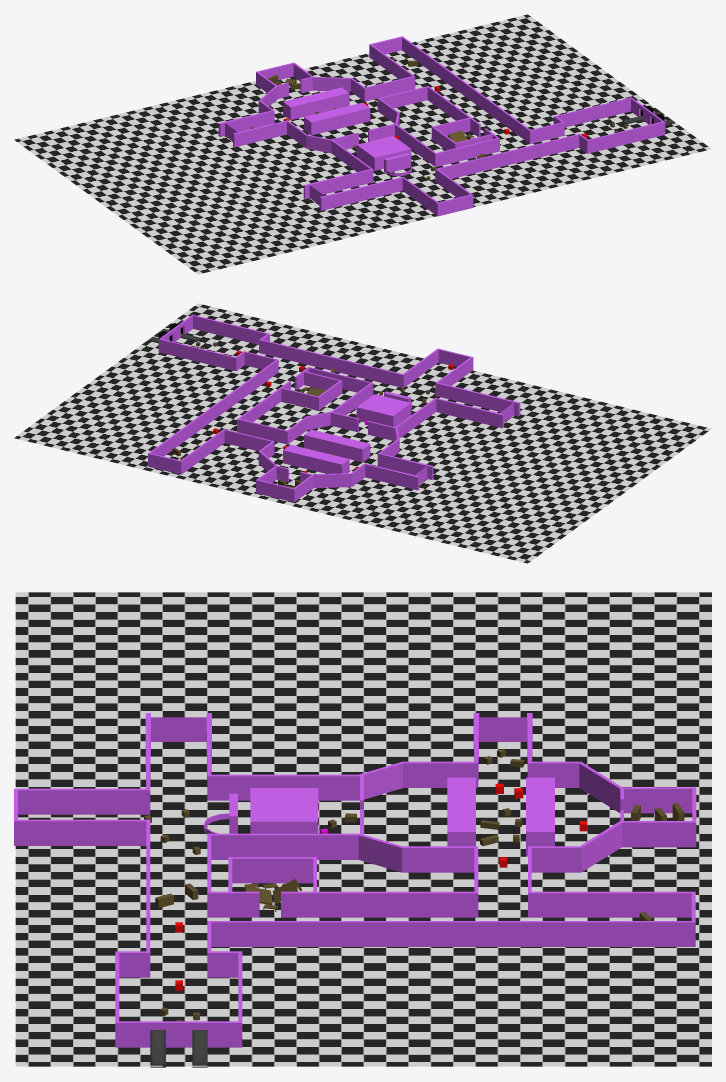
Rendered from Level1_BlockOut.fbx.
The picture shows the model from 3 angles, top to bottom: view 1: azimuth 30°, elevation 25°; view 2: azimuth 150°, elevation 25°; view 3: azimuth 270°, elevation 25°; orthographic projection. The views are drawn at different scales.
Visible parts, largest first — view 1: Sol, Wall.001, Circle.002, Circle.003, Circle.001, Reception Desk; view 2: Sol, Wall.001, Circle.002, Circle.001, Circle.003; view 3: Sol, Wall.001, Circle.001, Circle.003, Circle.002.
Boxes of the visible parts, x1,y1,x2,y2 form: Sol: (14,14,711,274); Wall.001: (218,36,665,216); Circle.002: (304,102,370,135); Circle.003: (283,87,349,120); Circle.001: (356,136,411,170); Reception Desk: (384,153,412,176); Sol: (14,303,711,563); Wall.001: (148,314,520,502); Circle.002: (304,429,370,462); Circle.001: (356,394,411,427); Circle.003: (283,444,349,473); Sol: (15,592,711,1066); Wall.001: (14,713,696,1047); Circle.001: (250,788,318,833); Circle.003: (526,777,554,856); Circle.002: (447,777,475,846).
Bounding box in the file's own units: 145 × 4.5 × 90.
